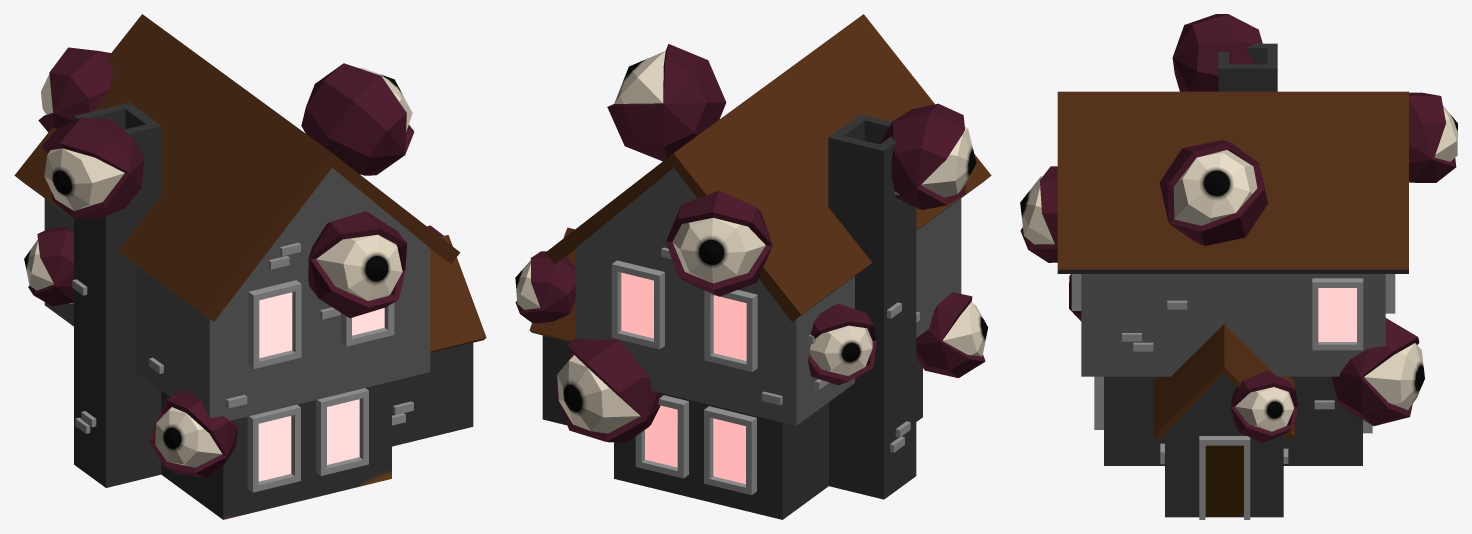
Rendered from Build_1_Eye.fbx.
The picture shows the model from 3 angles, left to right: view 1: azimuth 30°, elevation 25°; view 2: azimuth 150°, elevation 25°; view 3: azimuth 270°, elevation 25°; orthographic projection. The views are drawn at different scales.
Parts seen in each view (by area): view 1: No_Madness.022; view 2: No_Madness.022; view 3: No_Madness.022.
Boxes of the visible parts, left/top/right/bottom form: No_Madness.022: left=14, top=14, right=486, bottom=519; No_Madness.022: left=515, top=14, right=991, bottom=519; No_Madness.022: left=1020, top=14, right=1457, bottom=519.
Size of the model in its own units: 5.05 by 4.21 by 4.87.
